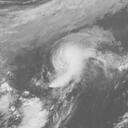cyclone: (49, 24, 118, 95)
